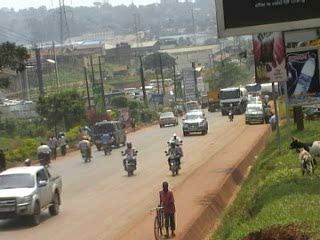Car: (179, 108, 211, 136), (157, 108, 182, 128)
Motorcycle: (116, 138, 139, 176), (164, 142, 184, 176), (76, 132, 94, 164), (34, 139, 53, 168), (99, 128, 116, 156), (164, 133, 185, 153), (226, 101, 235, 122)
